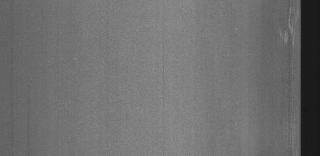silk spot: (274, 8, 300, 48)
